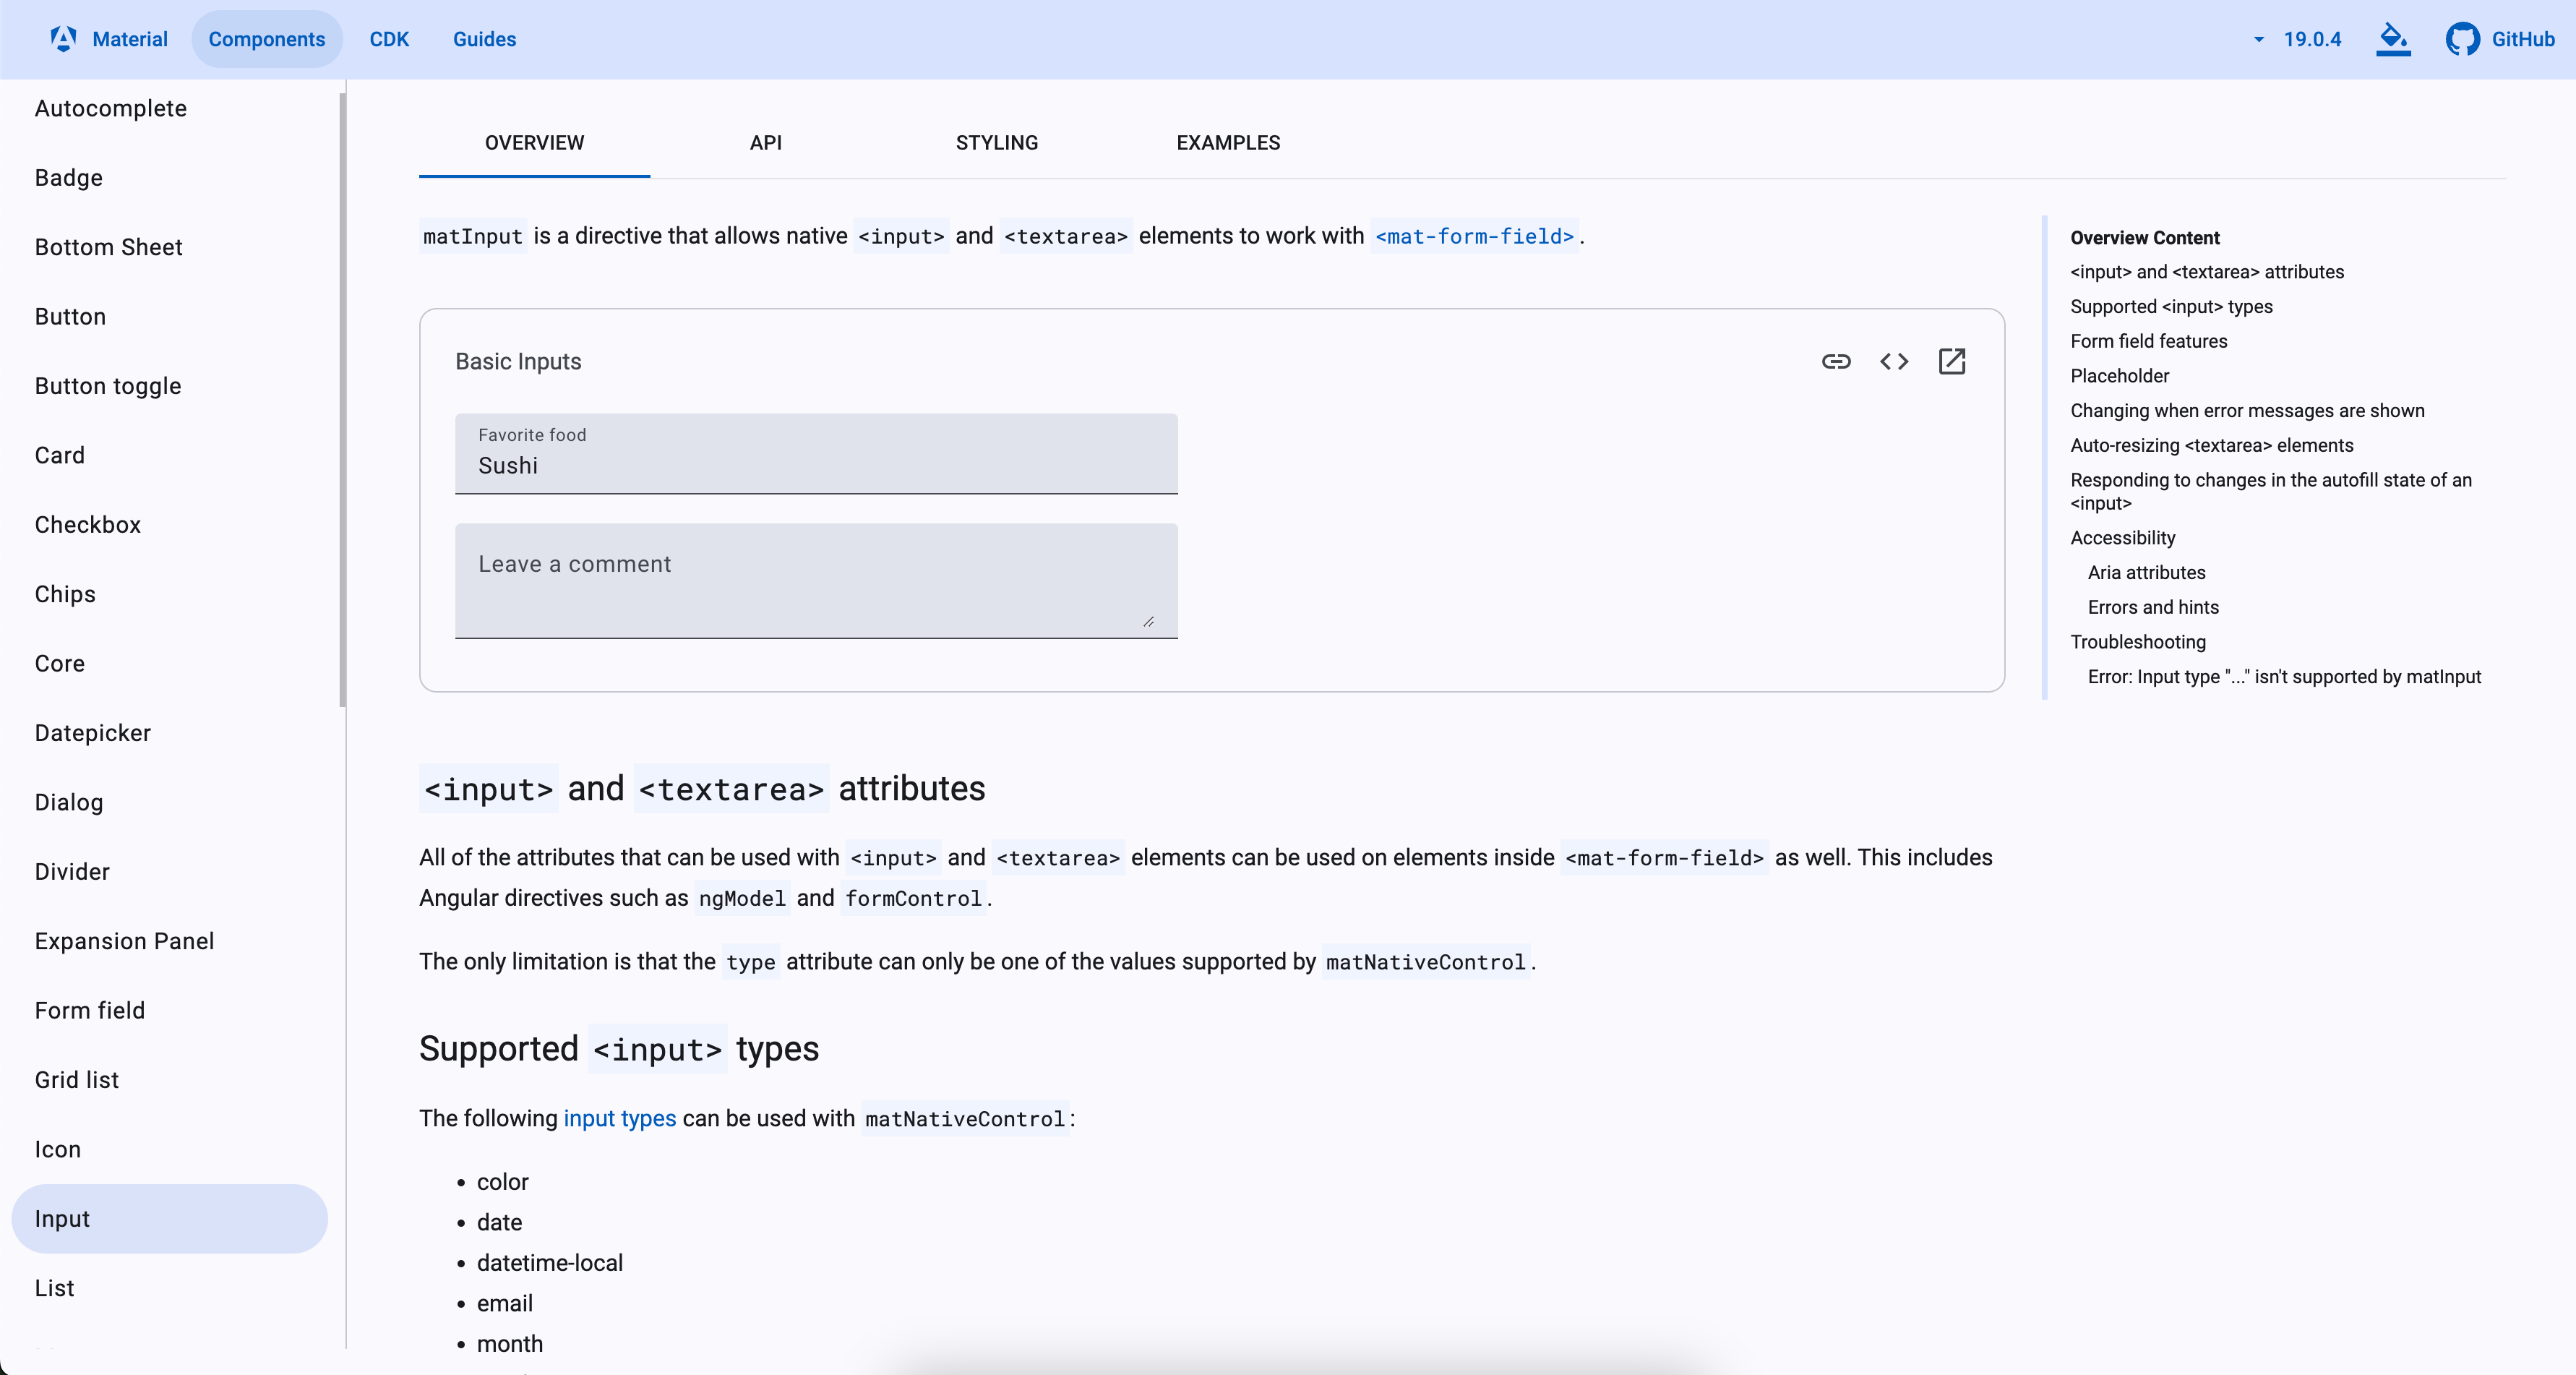input: (453, 521, 1181, 641), (451, 411, 1179, 496)
label: (474, 549, 675, 578), (477, 421, 588, 448)
